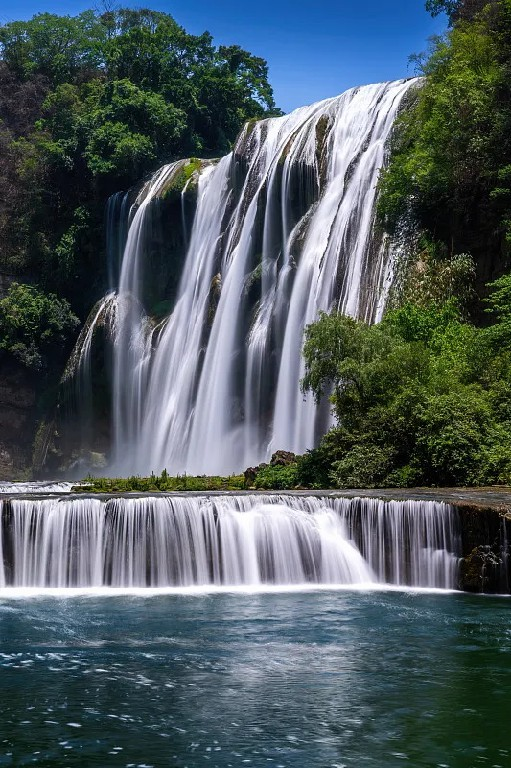Huangguoshu: (81, 76, 426, 479)
